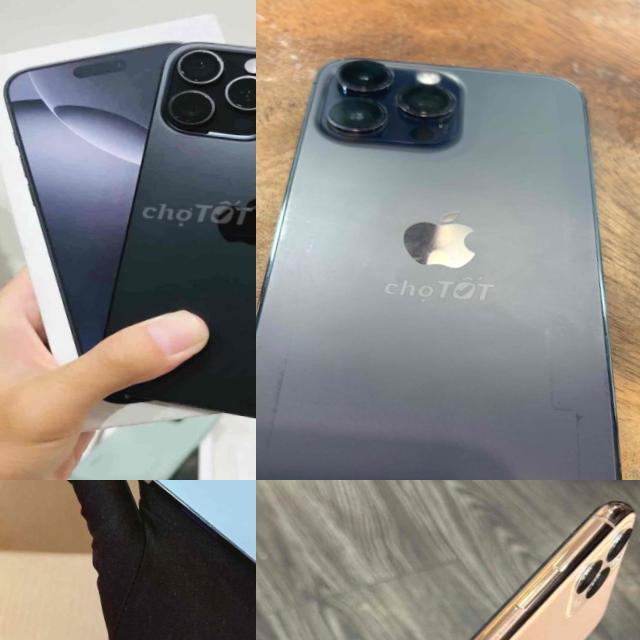gen_11: (256, 480, 640, 640)
gen_12_13: (12, 480, 256, 599)
gen_14: (256, 50, 640, 480)
gen_16: (80, 32, 256, 433)
